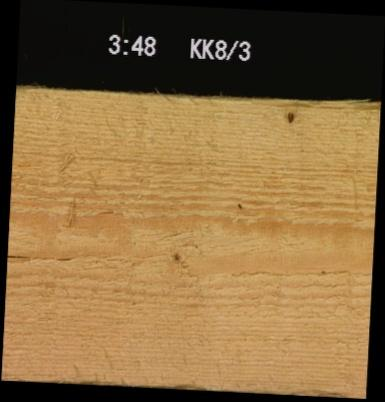dry_knot: (283, 107, 295, 124)
small_knot: (168, 247, 184, 264)
split: (7, 249, 79, 261)
wave: (154, 91, 380, 103), (156, 382, 352, 393)
